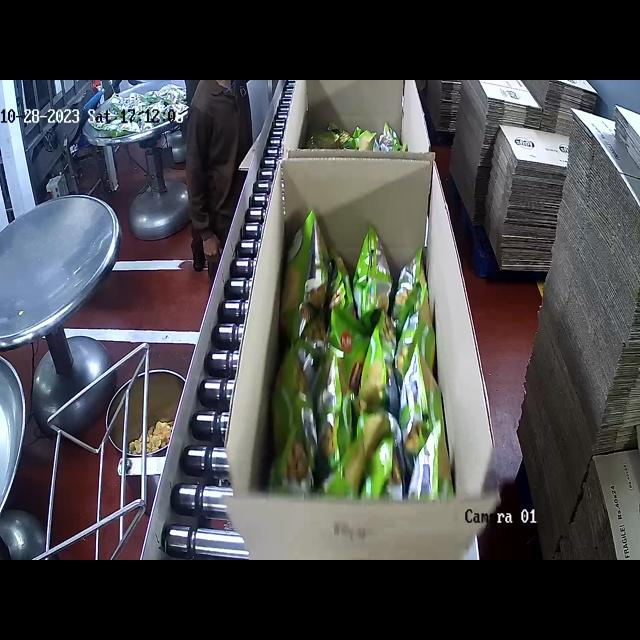yogurt: (266, 207, 455, 501), (303, 113, 410, 152)
